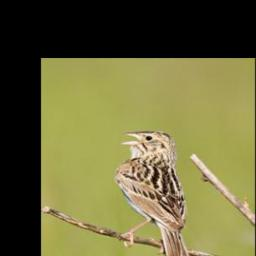Sparrow: (113, 128, 195, 256)
